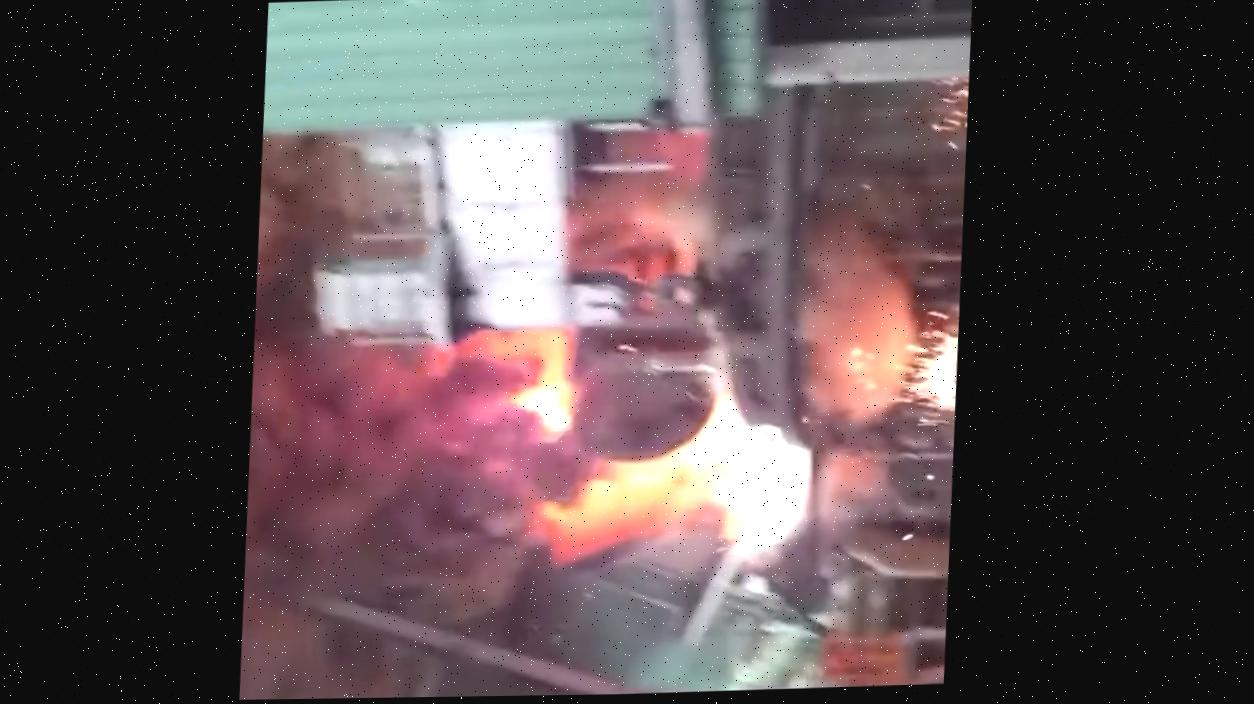fire: (266, 157, 921, 623)
